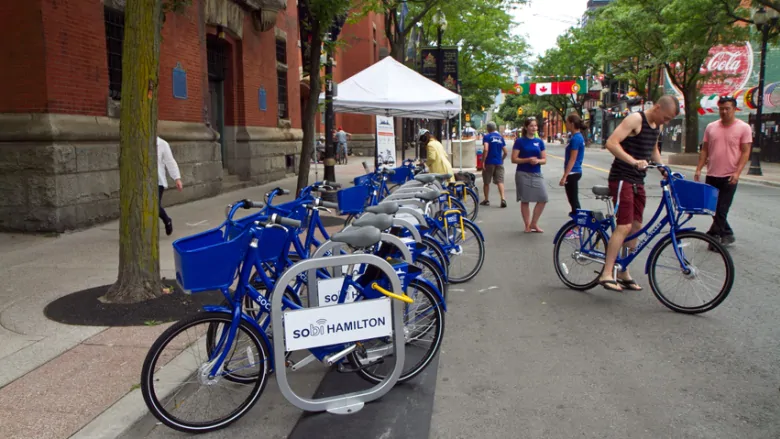commuter: (553, 93, 735, 316)
